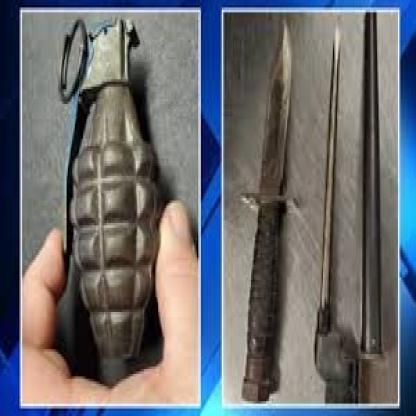Grenade: (60, 17, 163, 362)
Knife: (243, 17, 294, 398)
